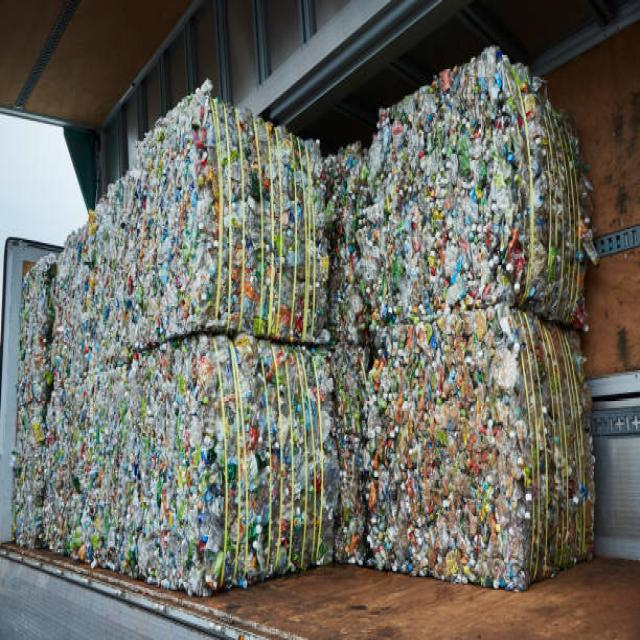plastic: (25, 274, 233, 571), (378, 177, 527, 582)
